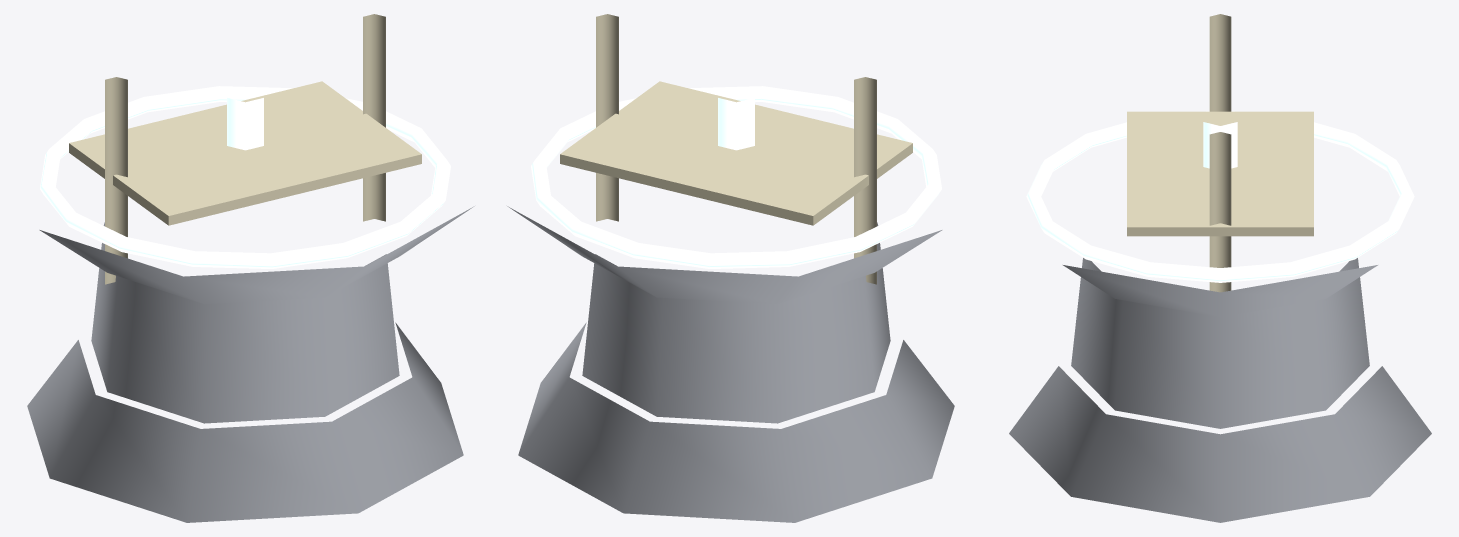
Rendered from floating_scroll_altar.glb.
The picture shows the model from 3 angles, left to right: view 1: azimuth 30°, elevation 25°; view 2: azimuth 150°, elevation 25°; view 3: azimuth 270°, elevation 25°; orthographic projection. The views are drawn at different scales.
Visible parts, largest first — view 1: RootNode; view 2: RootNode; view 3: RootNode.
Part boxes in pixels (left/top/right/bottom): RootNode: left=27, top=14, right=474, bottom=522; RootNode: left=507, top=14, right=954, bottom=522; RootNode: left=1009, top=14, right=1431, bottom=522.
Bounding box in the file's own units: 1.8 × 1.58 × 1.8.
